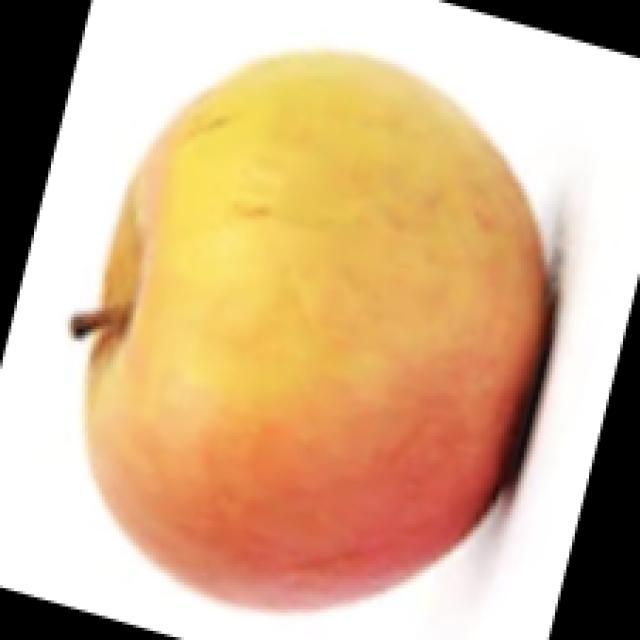Apple: (71, 46, 554, 612)
